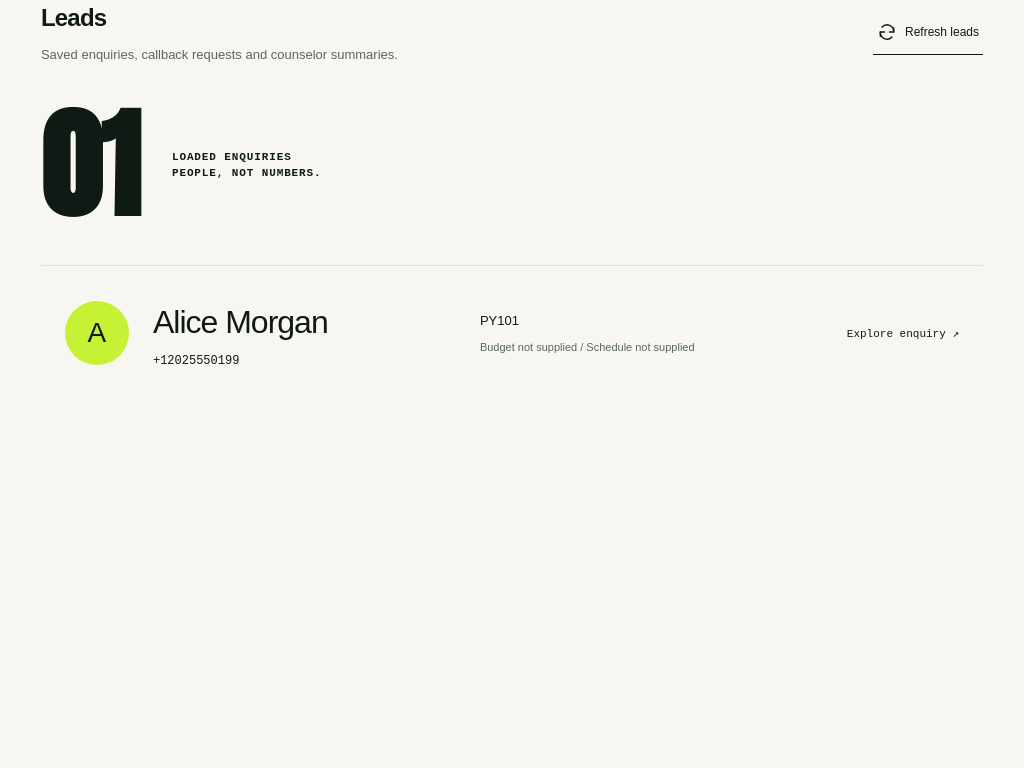
it: pending automation does not invent a summary or a callback
Click the heading "Alice Morgan": (240, 322) left=153, top=298, right=328, bottom=346
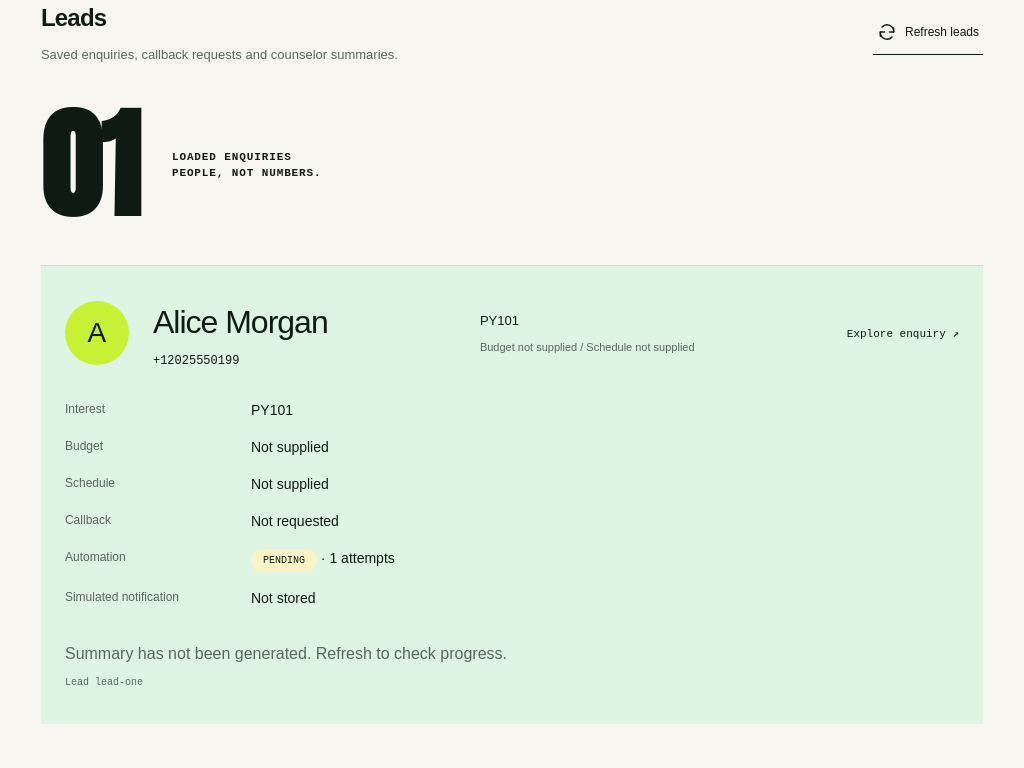
Now the text "Not requested" is shown, box left=251, top=513, right=339, bottom=529
Now the text "Summary has not been generated. Refresh to check progress." is shown, box left=65, top=645, right=507, bottom=662
